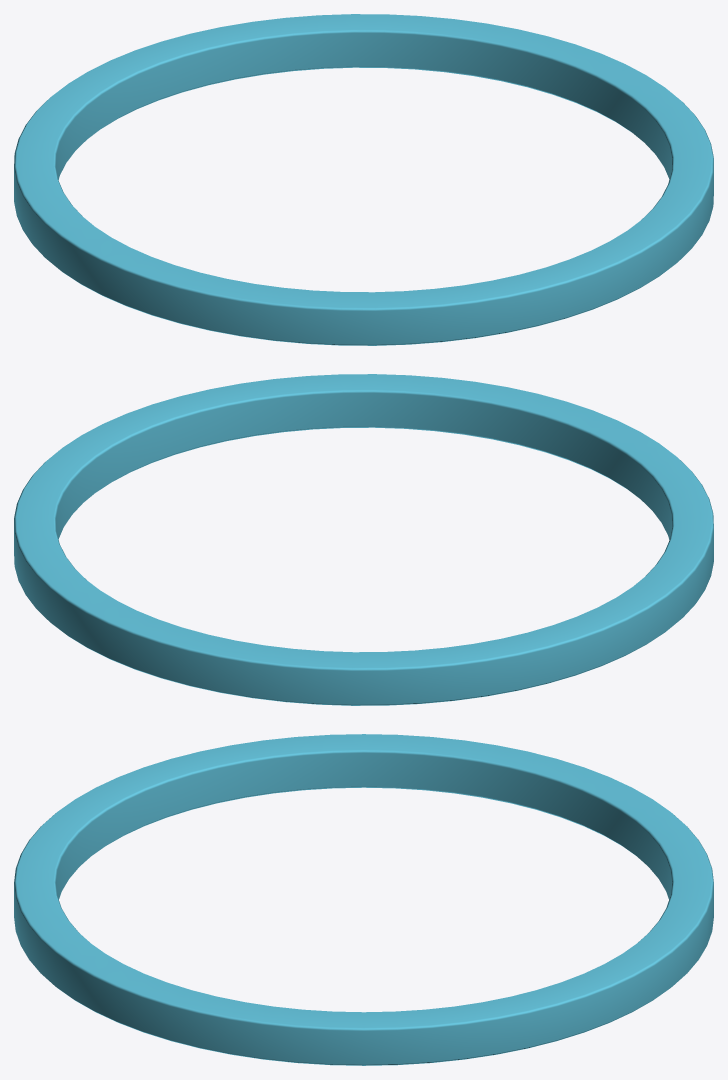
The picture shows the model from 3 angles, top to bottom: view 1: azimuth 30°, elevation 25°; view 2: azimuth 150°, elevation 25°; view 3: azimuth 270°, elevation 25°; orthographic projection.
Visible parts, largest first — view 1: seal_body; view 2: seal_body; view 3: seal_body.
Part boxes in pixels (x1=…): seal_body: x1=14, y1=14, x2=713, y2=345; seal_body: x1=14, y1=374, x2=713, y2=705; seal_body: x1=14, y1=734, x2=713, y2=1065.
Bounding box in the file's own units: 0.0794 × 0.00476 × 0.0794.
